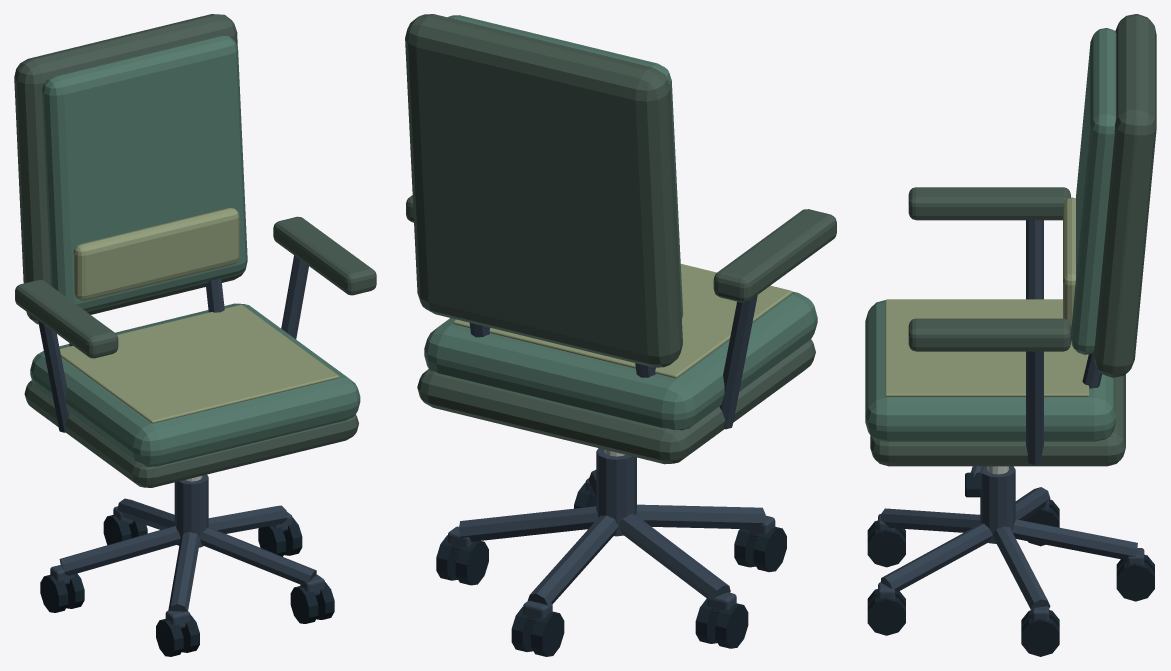
File: chair_task_green.glb
3 views of the same model, side by side, from view 1: azimuth 30°, elevation 25°; view 2: azimuth 150°, elevation 25°; view 3: azimuth 270°, elevation 25° (orthographic). The views are drawn at different scales.
Parts seen in each view (by area): view 1: chair_task_green__green_velvet, chair_task_green__sage_light, chair_task_green__sage_dark, chair_task_green__metal, chair_task_green__black; view 2: chair_task_green__sage_dark, chair_task_green__green_velvet, chair_task_green__metal, chair_task_green__black, chair_task_green__sage_light; view 3: chair_task_green__sage_dark, chair_task_green__green_velvet, chair_task_green__metal, chair_task_green__sage_light, chair_task_green__black.
Boxes of the visible parts, x1,y1,x2,y2 form: chair_task_green__green_velvet: [30, 35, 360, 467]; chair_task_green__sage_light: [60, 208, 339, 423]; chair_task_green__sage_dark: [14, 14, 376, 487]; chair_task_green__metal: [38, 255, 324, 628]; chair_task_green__black: [40, 515, 334, 656]; chair_task_green__sage_dark: [405, 14, 836, 464]; chair_task_green__green_velvet: [424, 15, 817, 430]; chair_task_green__metal: [448, 295, 775, 622]; chair_task_green__black: [436, 482, 786, 656]; chair_task_green__sage_light: [453, 264, 792, 378]; chair_task_green__sage_dark: [870, 14, 1156, 466]; chair_task_green__green_velvet: [865, 28, 1116, 441]; chair_task_green__metal: [878, 220, 1144, 620]; chair_task_green__sage_light: [885, 197, 1089, 396]; chair_task_green__black: [867, 472, 1154, 656].
Size of the model in its own units: 0.711 by 1.2 by 0.5924.
